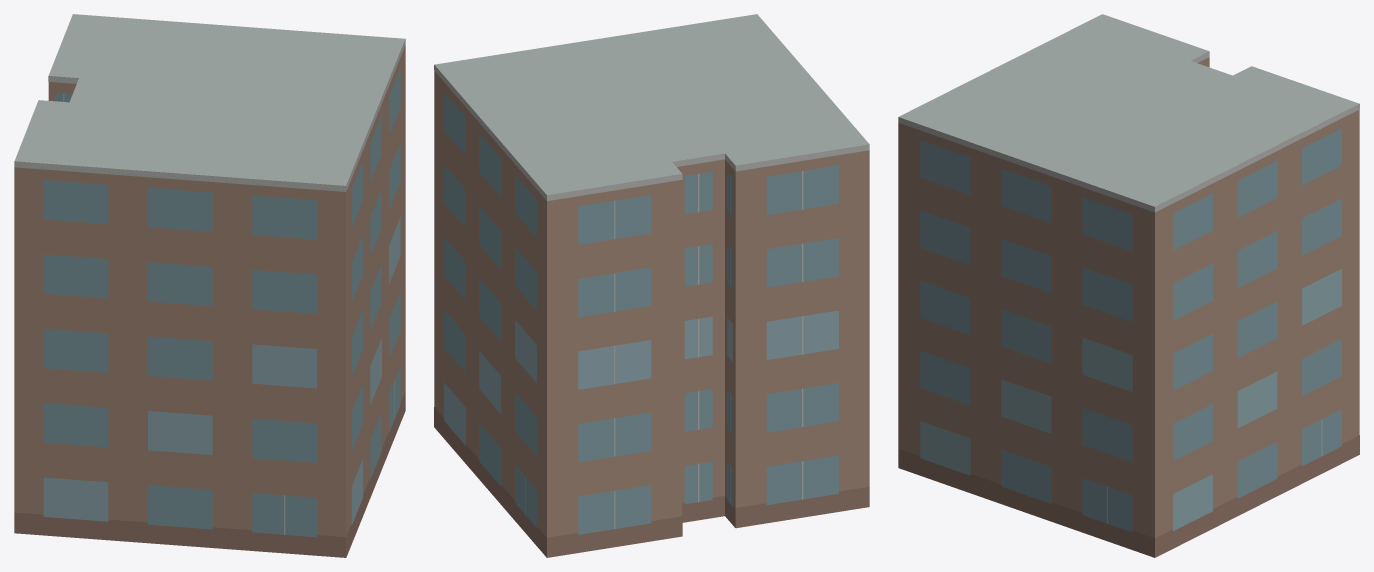
Rendered from survey-upis-33004201.glb.
3 views of the same model, side by side, from view 1: azimuth 30°, elevation 25°; view 2: azimuth 150°, elevation 25°; view 3: azimuth 270°, elevation 25° (orthographic). The views are drawn at different scales.
Visible parts, largest first — view 1: survey-upis-33004201.tmp; view 2: survey-upis-33004201.tmp; view 3: survey-upis-33004201.tmp.
Part boxes in pixels (x1,y1,x2,y2): survey-upis-33004201.tmp: (14,14,405,557); survey-upis-33004201.tmp: (434,14,869,557); survey-upis-33004201.tmp: (898,14,1359,557).
Size of the model in its own units: 17.81 by 15.1 by 18.
